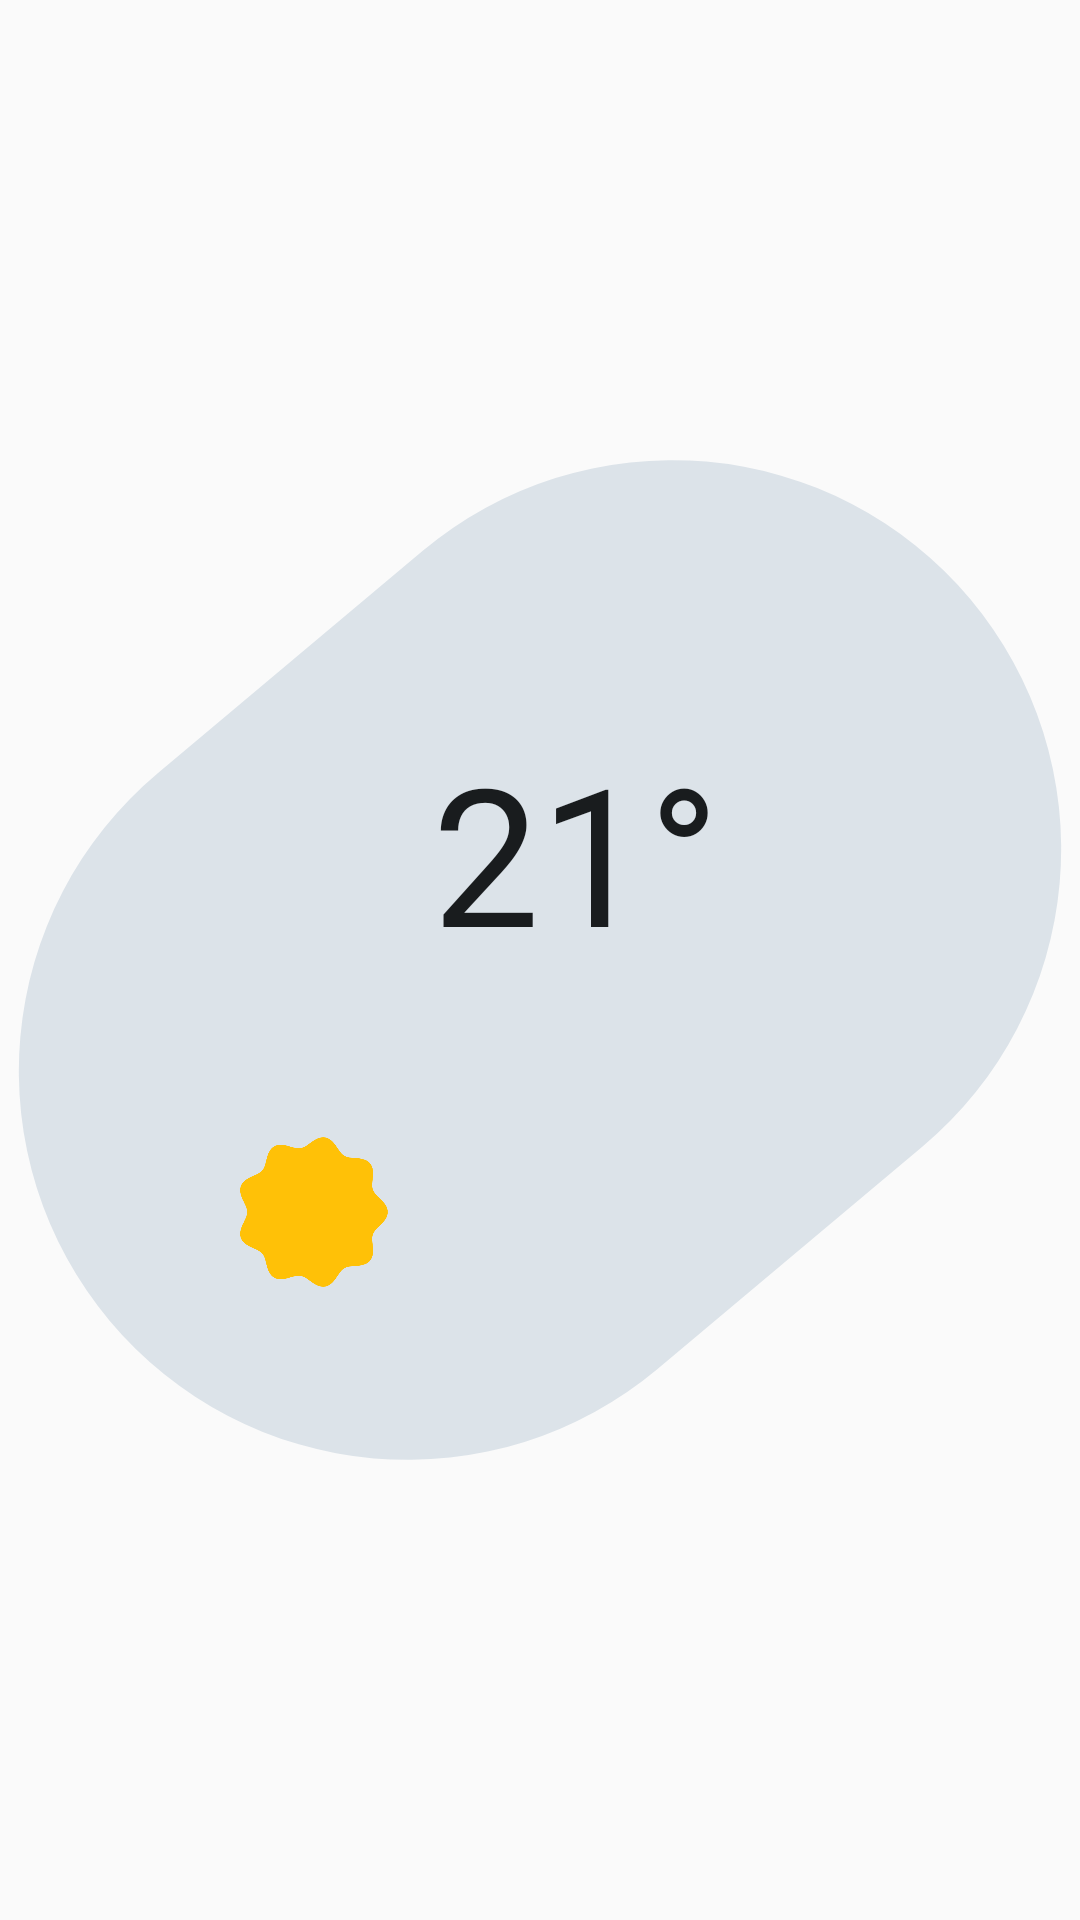

Locate icon controls on the screen. Image size 1080px x 1920px, boxes as (x1, y1, x2, y2).
clear day: (240, 1137, 388, 1287)
